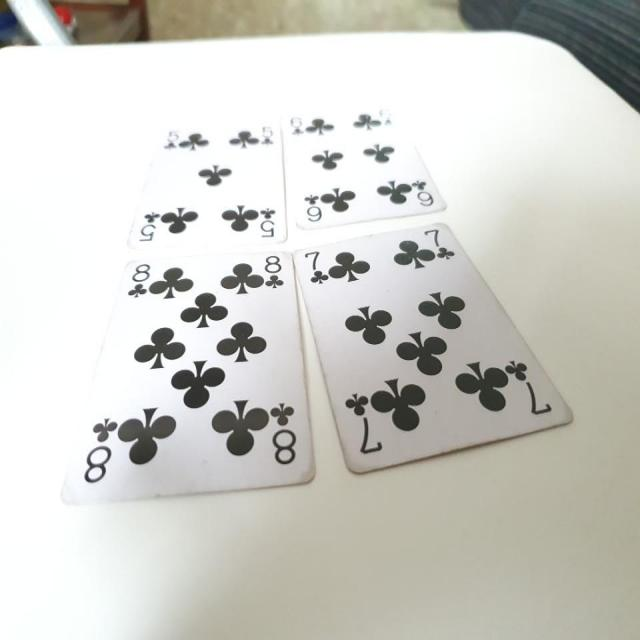5 Trefoils: (125, 108, 288, 252)
6 Trefoils: (282, 90, 447, 229)
7 Trefoils: (292, 220, 577, 474)
8 Trefoils: (58, 250, 319, 505)
